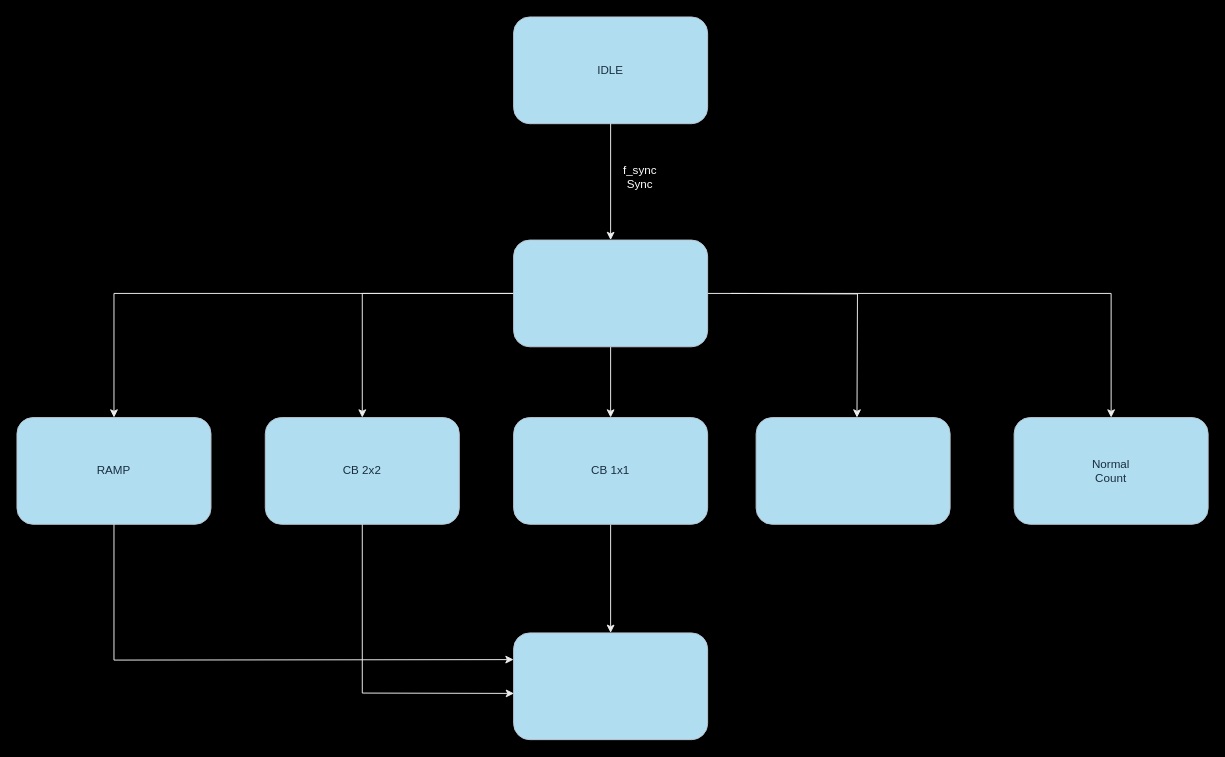
Image size: 1225x757. Some labels were removed from this diagram. Each missing label, with the centre of its shape:
"Const" belongs at (852,470).
"EndLine" belongs at (610,686).
"StartLine" belongs at (610,293).
